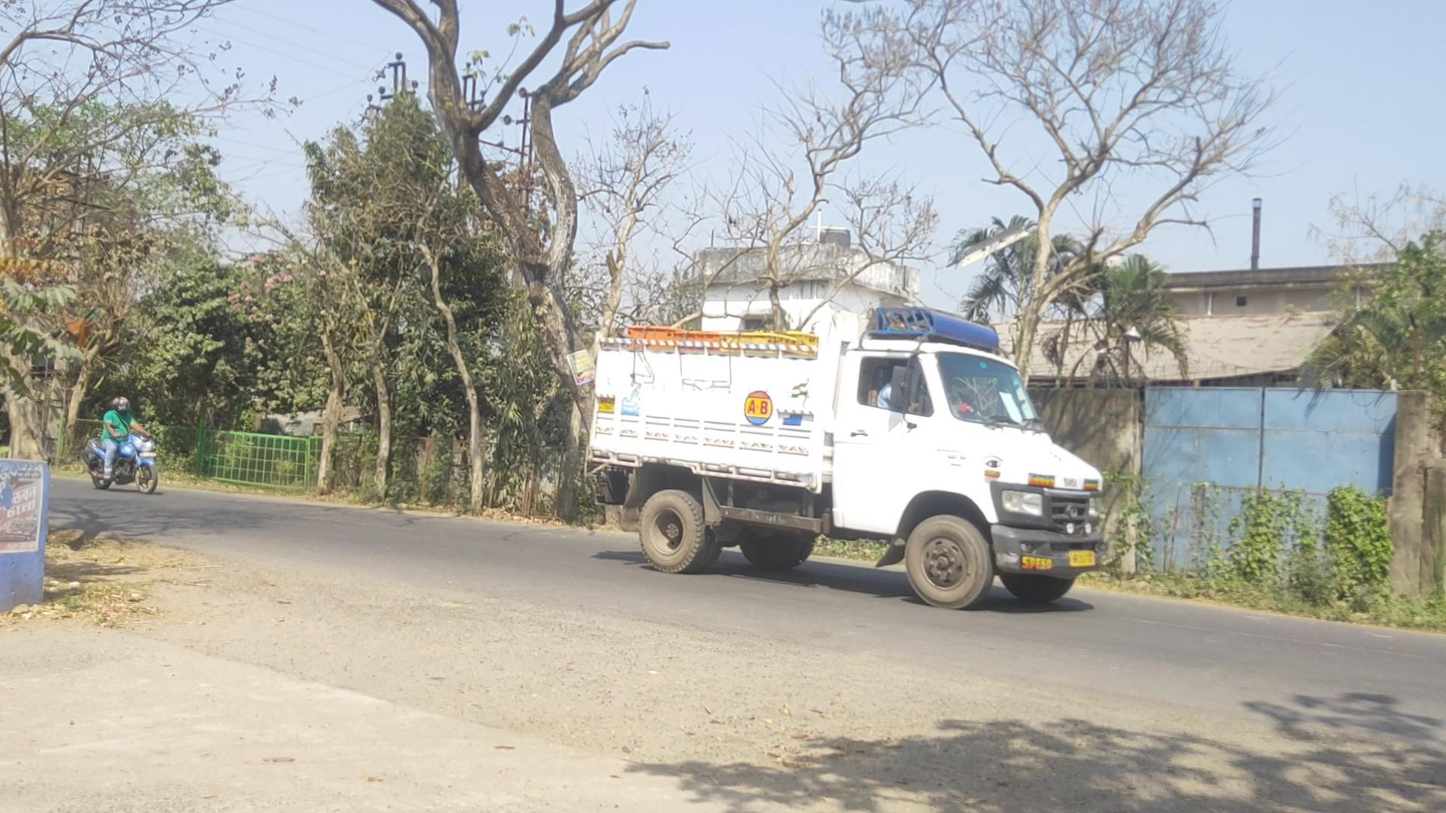bike: (84, 397, 157, 492)
truck: (584, 305, 1105, 611)
